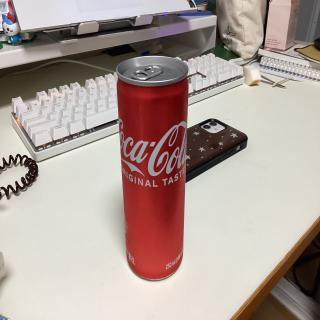cocacola: (114, 53, 190, 283)
